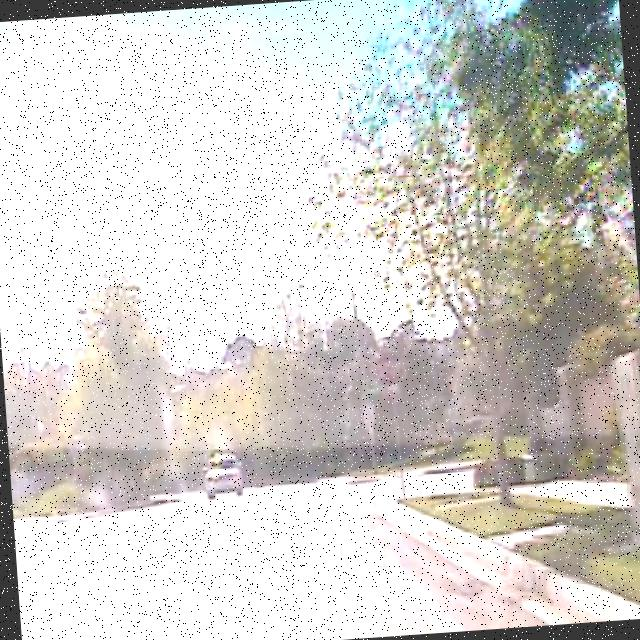Stop: (374, 347, 408, 388)
